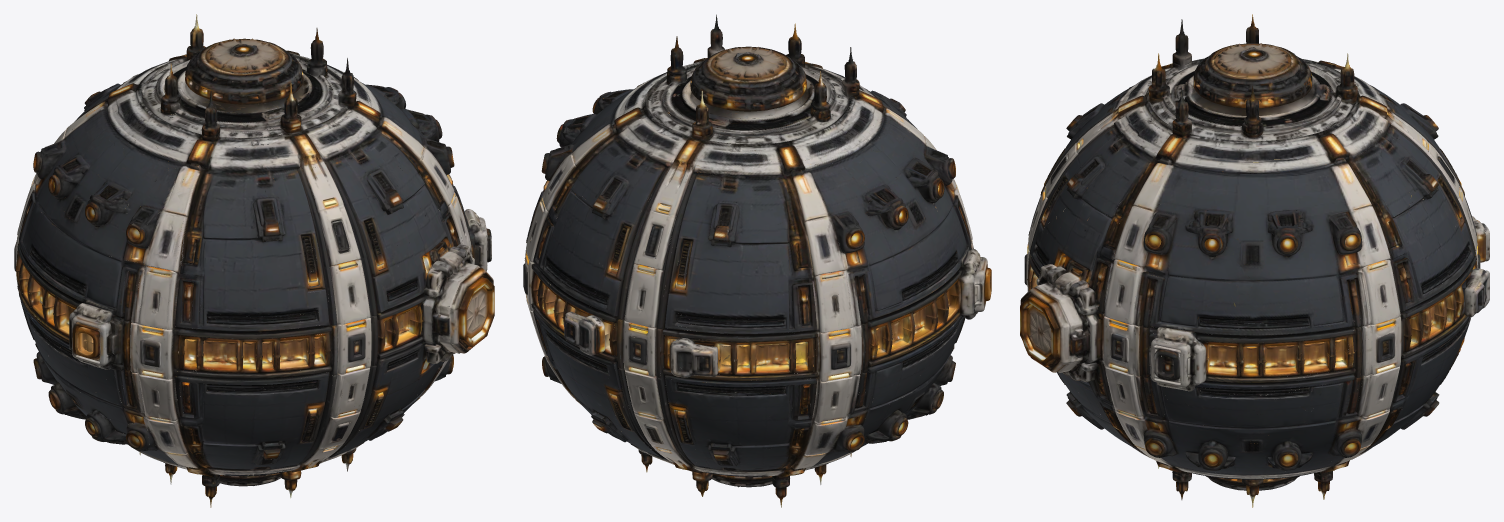
Rendered from orbital-lab-lod0.glb.
The picture shows the model from 3 angles, left to right: view 1: azimuth 30°, elevation 25°; view 2: azimuth 150°, elevation 25°; view 3: azimuth 270°, elevation 25°; orthographic projection.
Visible parts, largest first — view 1: node_0; view 2: node_0; view 3: node_0.
Boxes of the visible parts, left/top/right/bottom form: node_0: left=14, top=14, right=494, bottom=507; node_0: left=523, top=14, right=991, bottom=507; node_0: left=1020, top=14, right=1489, bottom=507.
Size of the model in its own units: 1.08 by 1.07 by 1.05.
Materials: 1 (1 with a texture image).
